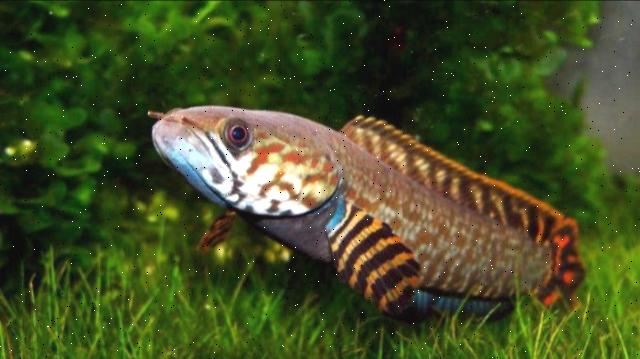Mulut: (132, 91, 258, 210)
Sirip Anal: (406, 269, 520, 341)
Sirip Dada: (315, 181, 431, 329), (176, 196, 248, 264)
Sirip Ekor: (520, 206, 602, 324)
Sirip Punggung: (332, 101, 564, 249)
